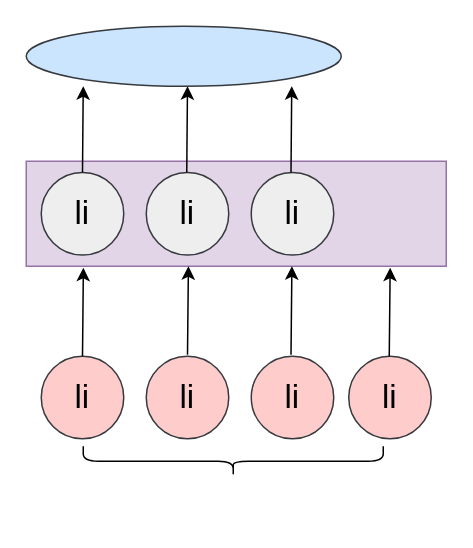
This 473x548 diagram has some shape labels left out. Here are the shapes that lost their labels. From the top down, the centre of each, then its label:
(x=183, y=55): 从浏览器中删除
(x=232, y=460): 重新创建
